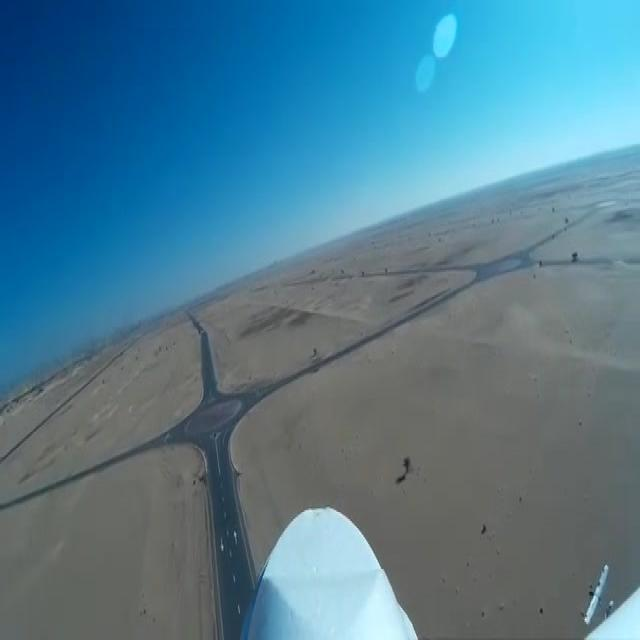iha: (581, 562, 615, 625)
